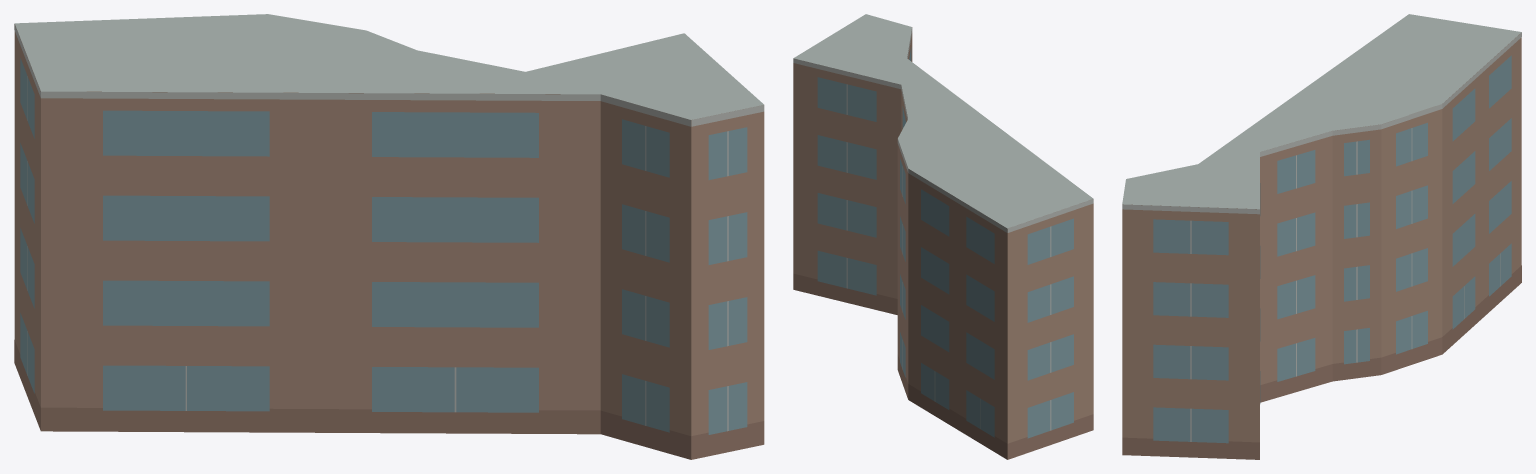
Rendered from survey-upis-32566749.glb.
3 views of the same model, side by side, from view 1: azimuth 30°, elevation 25°; view 2: azimuth 150°, elevation 25°; view 3: azimuth 270°, elevation 25° (orthographic). The views are drawn at different scales.
Visible parts, largest first — view 1: survey-upis-32566749.tmp; view 2: survey-upis-32566749.tmp; view 3: survey-upis-32566749.tmp.
Boxes of the visible parts, <box> form: survey-upis-32566749.tmp: <box>14,14,764,459</box>; survey-upis-32566749.tmp: <box>793,14,1093,459</box>; survey-upis-32566749.tmp: <box>1122,14,1521,459</box>.
Bounding box in the file's own units: 20.39 × 12.2 × 17.64.
